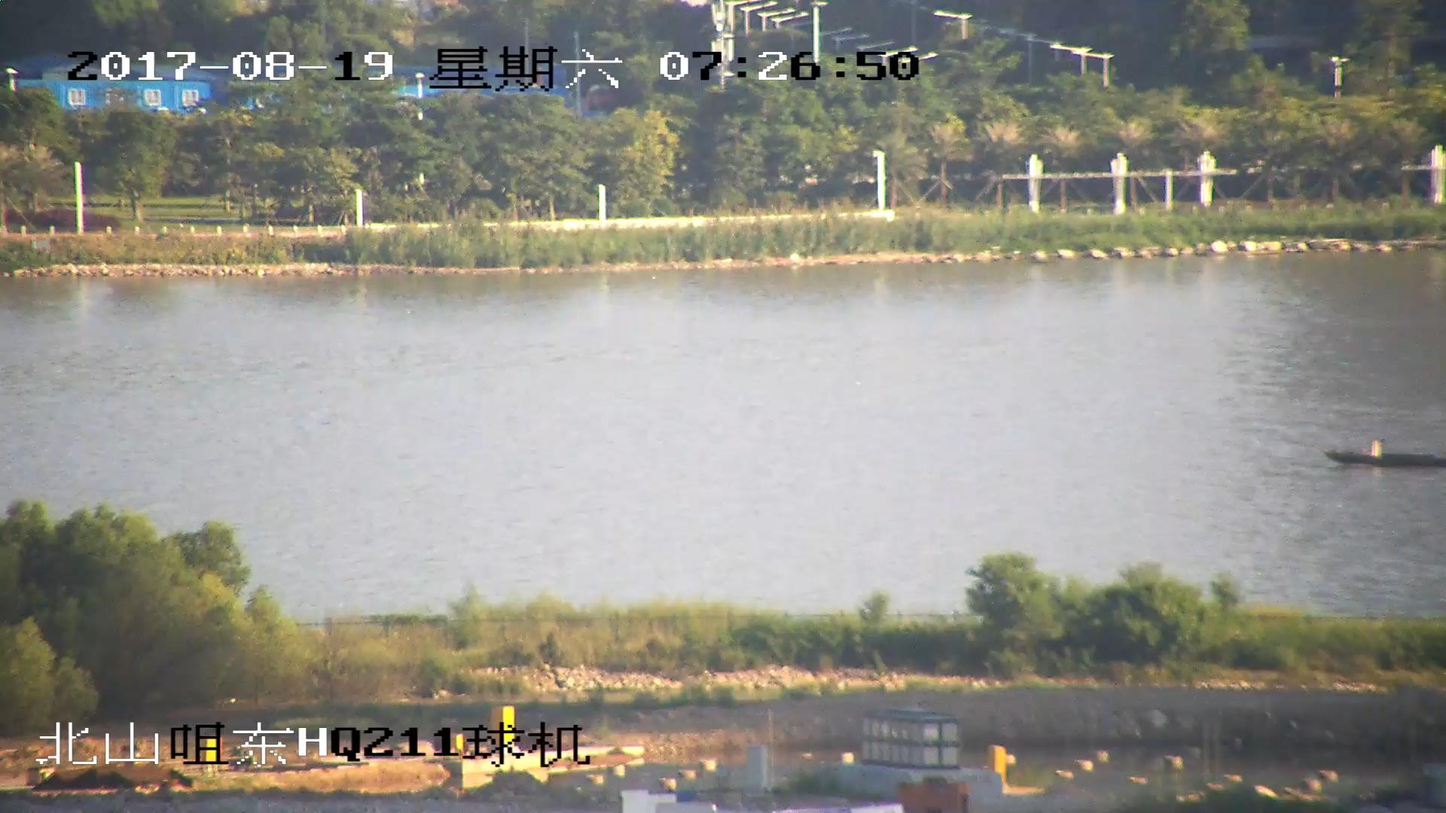fishing boat: (1326, 438, 1445, 470)
